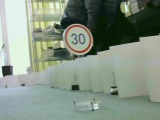speed_30: (61, 23, 95, 55)
